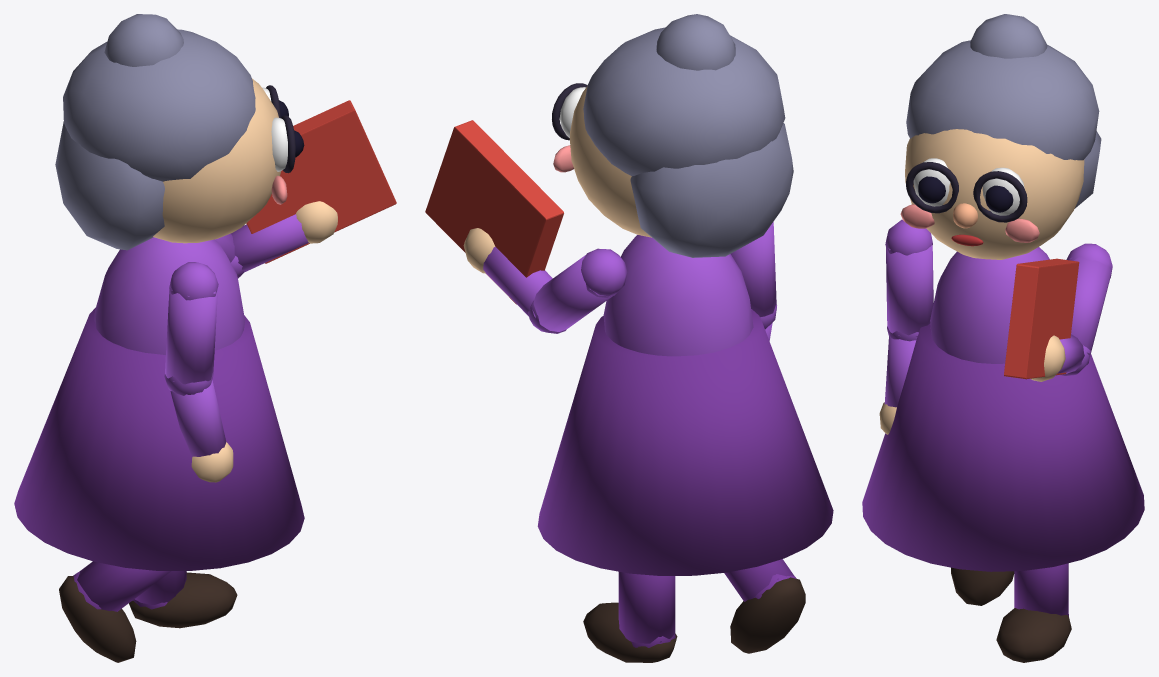
File: knihovnice_chuze.glb
The picture shows the model from 3 angles, left to right: view 1: azimuth 30°, elevation 25°; view 2: azimuth 150°, elevation 25°; view 3: azimuth 270°, elevation 25°; orthographic projection. The views are drawn at different scales.
Visible parts, largest first — view 1: Cone, Sphere.010, Sphere, Cube, Sphere.001, Sphere.011, Cylinder, Sphere.030, Sphere.025, Sphere.012, Cylinder.005, Cylinder.001 (+7 smaller); view 2: Cone, Sphere.010, Sphere, Sphere.011, Cube, Sphere.001, Cylinder.007, Sphere.025, Sphere.012, Cylinder.002, Sphere.030, Cylinder (+5 smaller); view 3: Cone, Sphere.010, Sphere.001, Sphere, Cube, Cylinder, Sphere.030, Sphere.012, Cylinder.002, Cylinder.007, Sphere.025, Cylinder.001 (+14 smaller).
Boxes of the visible parts, x1=… form: Cone: x1=14, y1=307, x2=304, y2=570; Sphere.010: x1=63, y1=29, x2=255, y2=181; Sphere: x1=94, y1=237, x2=244, y2=354; Cube: x1=246, y1=100, x2=396, y2=263; Sphere.001: x1=153, y1=78, x2=281, y2=243; Sphere.011: x1=55, y1=121, x2=164, y2=250; Cylinder: x1=165, y1=285, x2=217, y2=384; Sphere.030: x1=129, y1=572, x2=237, y2=628; Sphere.025: x1=59, y1=576, x2=136, y2=662; Sphere.012: x1=104, y1=14, x2=183, y2=66; Cylinder.005: x1=75, y1=561, x2=171, y2=611; Cylinder.001: x1=170, y1=380, x2=226, y2=456; Cone: x1=537, y1=309, x2=833, y2=575; Sphere.010: x1=583, y1=27, x2=785, y2=176; Sphere: x1=603, y1=235, x2=753, y2=356; Sphere.011: x1=630, y1=123, x2=793, y2=257; Cube: x1=425, y1=120, x2=563, y2=304; Sphere.001: x1=569, y1=86, x2=651, y2=237; Cylinder.007: x1=618, y1=571, x2=675, y2=643; Sphere.025: x1=730, y1=577, x2=805, y2=653; Sphere.012: x1=656, y1=14, x2=735, y2=70; Cylinder.002: x1=532, y1=255, x2=615, y2=331; Sphere.030: x1=583, y1=602, x2=677, y2=662; Cylinder: x1=730, y1=222, x2=776, y2=317; Cone: x1=862, y1=323, x2=1144, y2=571; Sphere.010: x1=906, y1=40, x2=1099, y2=160; Sphere.001: x1=905, y1=129, x2=1084, y2=259; Sphere: x1=930, y1=247, x2=1049, y2=363; Cube: x1=1004, y1=258, x2=1079, y2=379; Cylinder: x1=886, y1=241, x2=933, y2=336; Sphere.030: x1=996, y1=608, x2=1071, y2=662; Sphere.012: x1=970, y1=14, x2=1047, y2=58; Cylinder.002: x1=1069, y1=257, x2=1111, y2=356; Cylinder.007: x1=1014, y1=563, x2=1068, y2=615; Sphere.025: x1=951, y1=567, x2=1014, y2=605; Cylinder.001: x1=884, y1=336, x2=916, y2=407.
Size of the model in its own units: 0.8352 by 1.36 by 0.5677.
